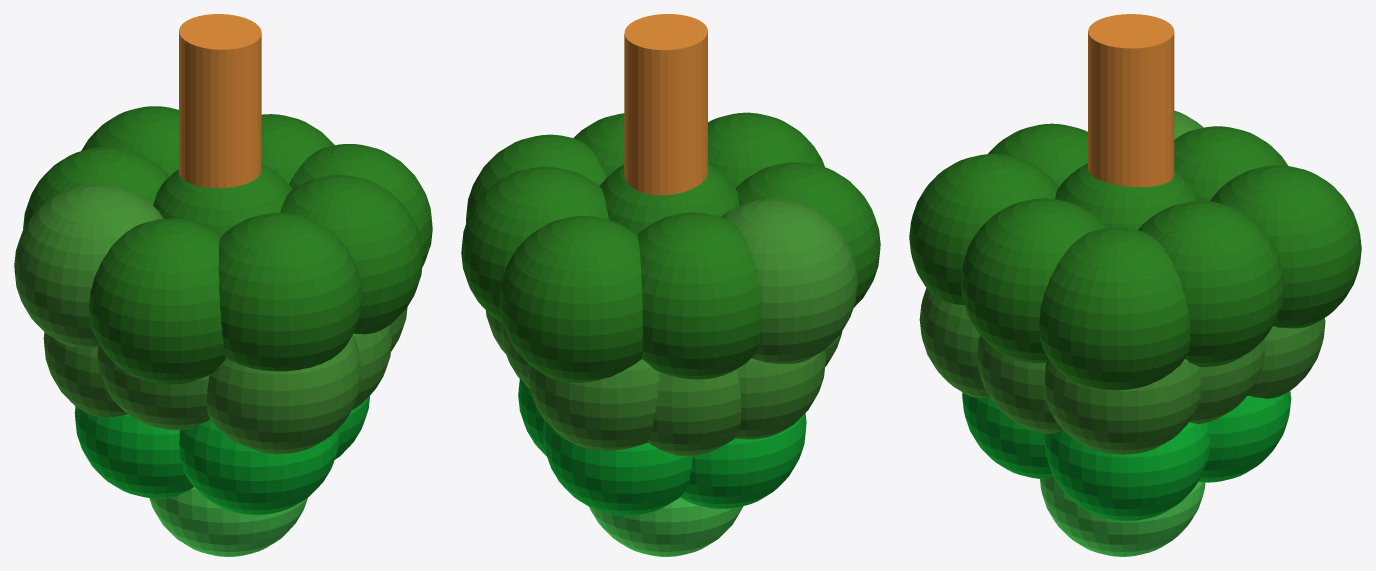
3 renders of one model, left to right at view 1: azimuth 30°, elevation 25°; view 2: azimuth 150°, elevation 25°; view 3: azimuth 270°, elevation 25°, orthographic.
Visible parts, largest first — view 1: 球.013, 球.020, 円柱, 球.006, 球.012, 球.019, 球.011, 球.003, 球, 球.014, 球.015, 球.022 (+6 smaller); view 2: 球.010, 球.022, 円柱, 球.006, 球.016, 球.009, 球.008, 球.020, 球.003, 球.021, 球.005, 球.013 (+6 smaller); view 3: 球.015, 球.016, 円柱, 球.010, 球.019, 球.013, 球.002, 球.017, 球, 球.008, 球.022, 球.014 (+6 smaller).
Boxes of the visible parts, x1,y1,x2,y2 form: 球.013: (218,212,362,371); 球.020: (88,218,226,384); 円柱: (179,14,261,188); 球.006: (14,184,163,348); 球.012: (206,335,361,453); 球.019: (280,175,422,334); 球.011: (179,419,339,515); 球.003: (74,406,193,498); 球: (149,487,307,556); 球.014: (153,163,292,235); 球.015: (289,144,432,266); 球.022: (23,147,169,229); 球.010: (499,216,642,382); 球.022: (637,212,762,379); 円柱: (624,14,707,195); 球.006: (721,198,857,363); 球.016: (461,166,608,323); 球.009: (527,359,659,450); 球.008: (542,419,692,515); 球.020: (736,162,880,307); 球.003: (680,413,806,508); 球.021: (648,369,741,455); 球.005: (734,349,825,439); 球.013: (708,112,824,187); 球.015: (1039,227,1190,390); 球.016: (1138,201,1284,367); 円柱: (1088,14,1174,187); 球.010: (1210,165,1361,328); 球.019: (960,198,1106,362); 球.013: (909,154,1058,304); 球.002: (1044,422,1210,521); 球.017: (1044,359,1201,454); 球: (1040,475,1205,556); 球.008: (1198,391,1291,482); 球.022: (1174,126,1287,201); 球.014: (1055,163,1200,230).
Size of the model in its own units: 5.27 by 6.81 by 5.41.
